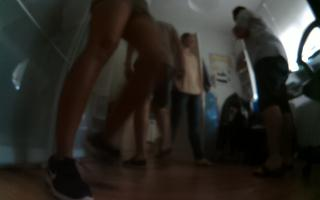person: (50, 1, 153, 200), (230, 5, 307, 182), (126, 17, 176, 172), (168, 27, 213, 175)
